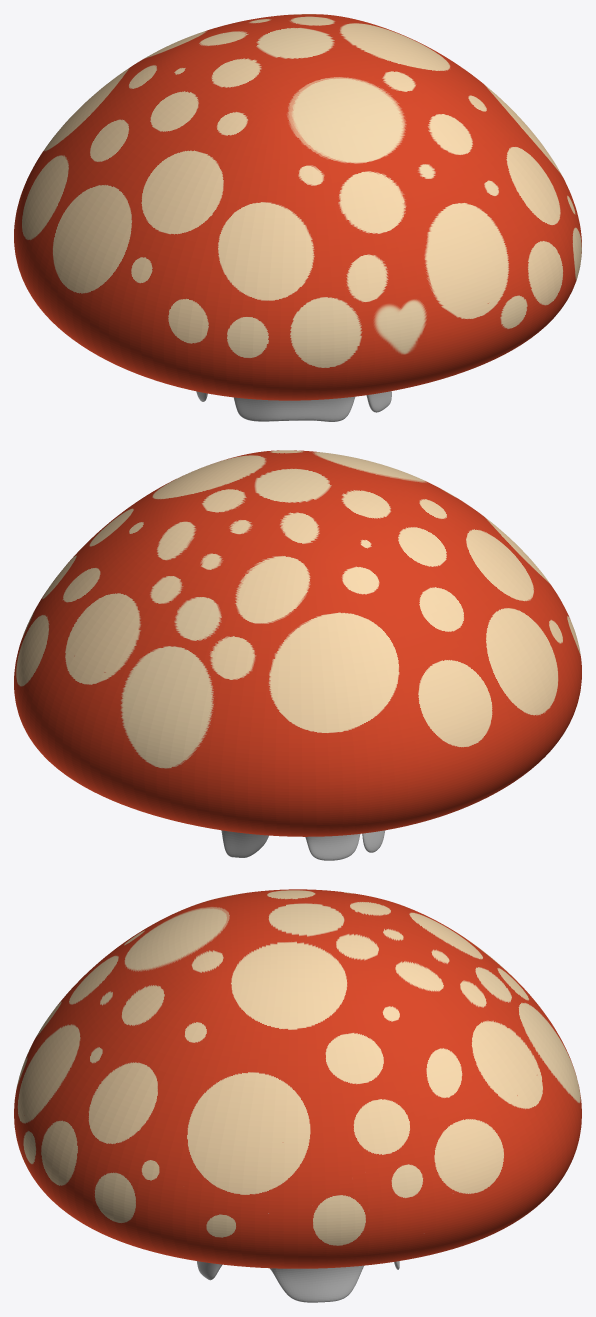
File: MushyModel.fbx
3 views of the same model, one above another, from view 1: azimuth 30°, elevation 25°; view 2: azimuth 150°, elevation 25°; view 3: azimuth 270°, elevation 25° (orthographic).
Visible parts, largest first — view 1: Cube.008; view 2: Cube.008; view 3: Cube.008.
Part boxes in pixels (<box>): Cube.008: <box>14,14,581,421</box>; Cube.008: <box>14,450,581,860</box>; Cube.008: <box>14,889,581,1302</box>.
Bounding box in the file's own units: 127 × 87.03 × 130.
